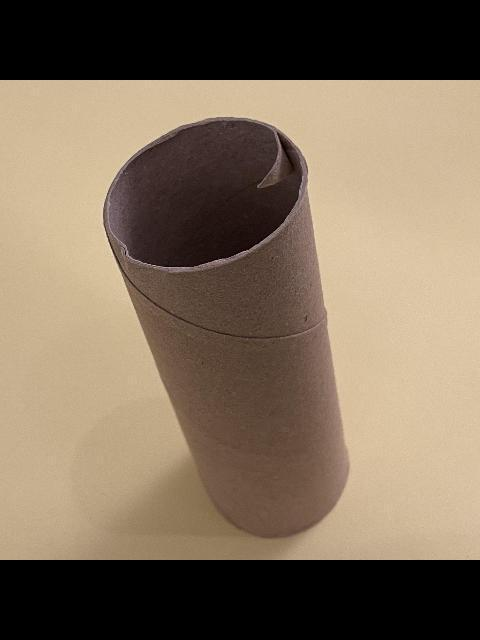tissueroll: (99, 115, 353, 541)
